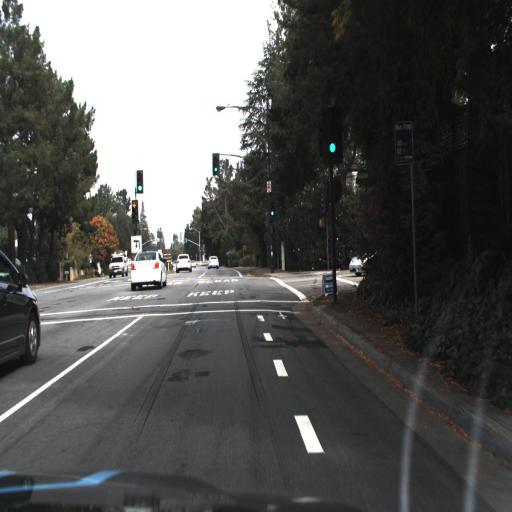car: (126, 245, 167, 295), (345, 241, 383, 283), (106, 247, 127, 281), (172, 251, 194, 276), (204, 249, 222, 275)
trafficLight-Green: (324, 114, 341, 157), (324, 137, 337, 165), (134, 170, 144, 201), (211, 150, 220, 178), (210, 157, 219, 183), (135, 177, 145, 198), (268, 197, 277, 219), (268, 204, 276, 226)
trafficLight-RedLeft: (129, 196, 140, 221), (130, 200, 138, 224)
